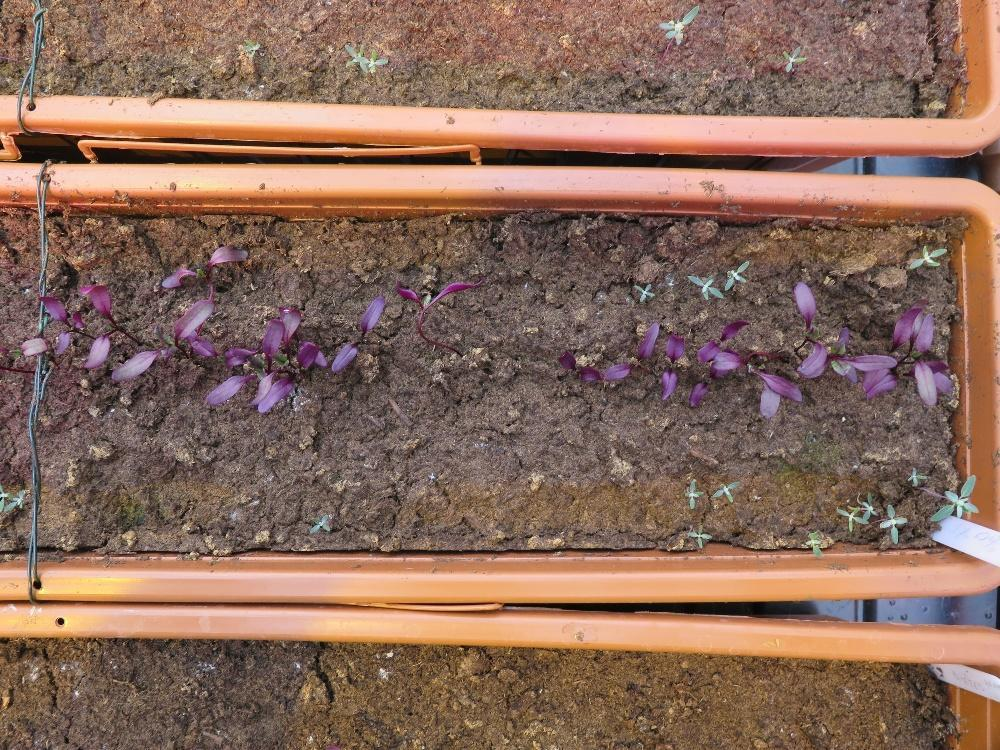weed: (929, 472, 977, 522), (878, 503, 906, 545), (907, 243, 946, 270), (686, 272, 722, 299), (723, 258, 749, 291), (781, 44, 807, 72), (710, 479, 739, 503), (685, 522, 711, 548), (802, 526, 822, 557), (683, 478, 703, 508), (904, 464, 927, 486), (307, 513, 331, 534), (632, 281, 655, 302), (240, 37, 260, 58)
